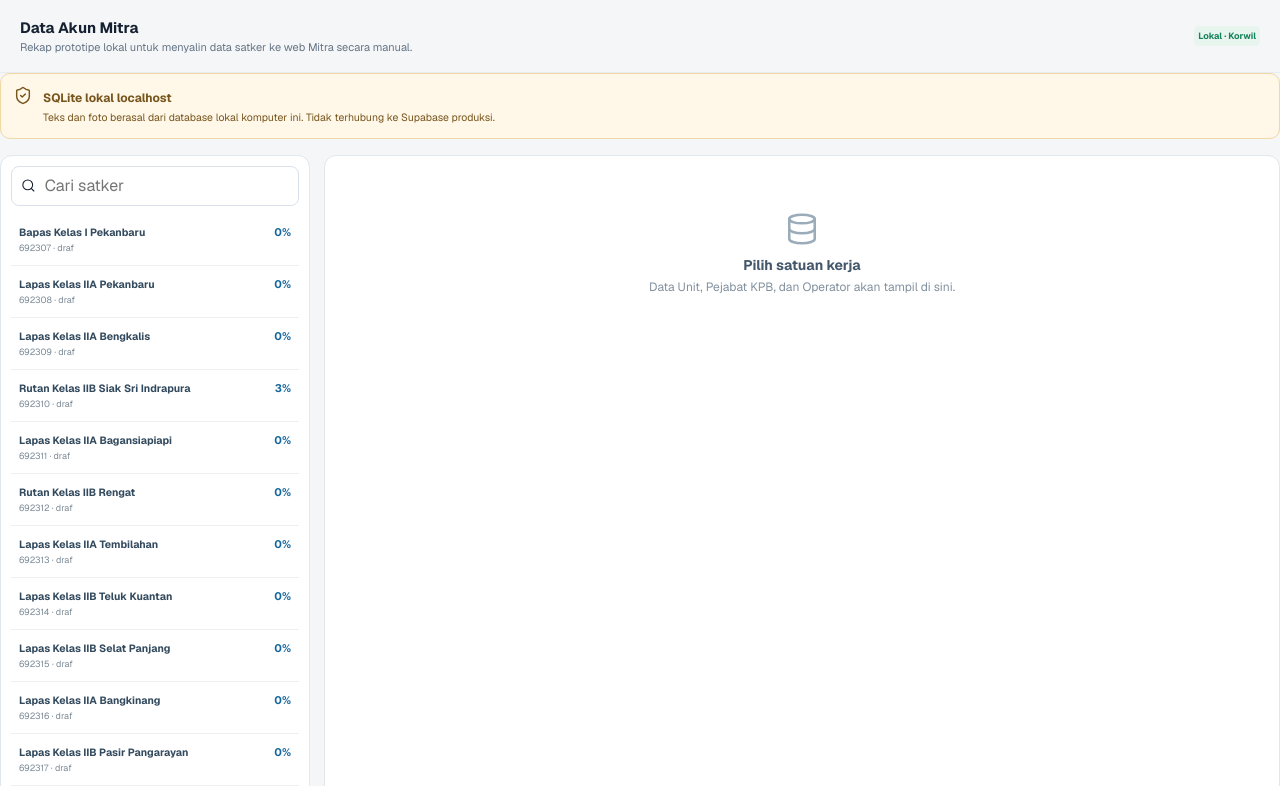
Scenario: Rekap Akun Mitra Korwil › menampilkan satker dan detail data terpusat
Check: the heading "Data Akun Mitra" is shown, box [20, 18, 138, 37]
Check: the text "SQLite lokal localhost" is shown, box [43, 90, 172, 106]
Step 1. Click the button "Rutan Kelas IIB Siak Sri Indrapura 692310 · draf 3%" → [155, 396], box [11, 370, 299, 422]
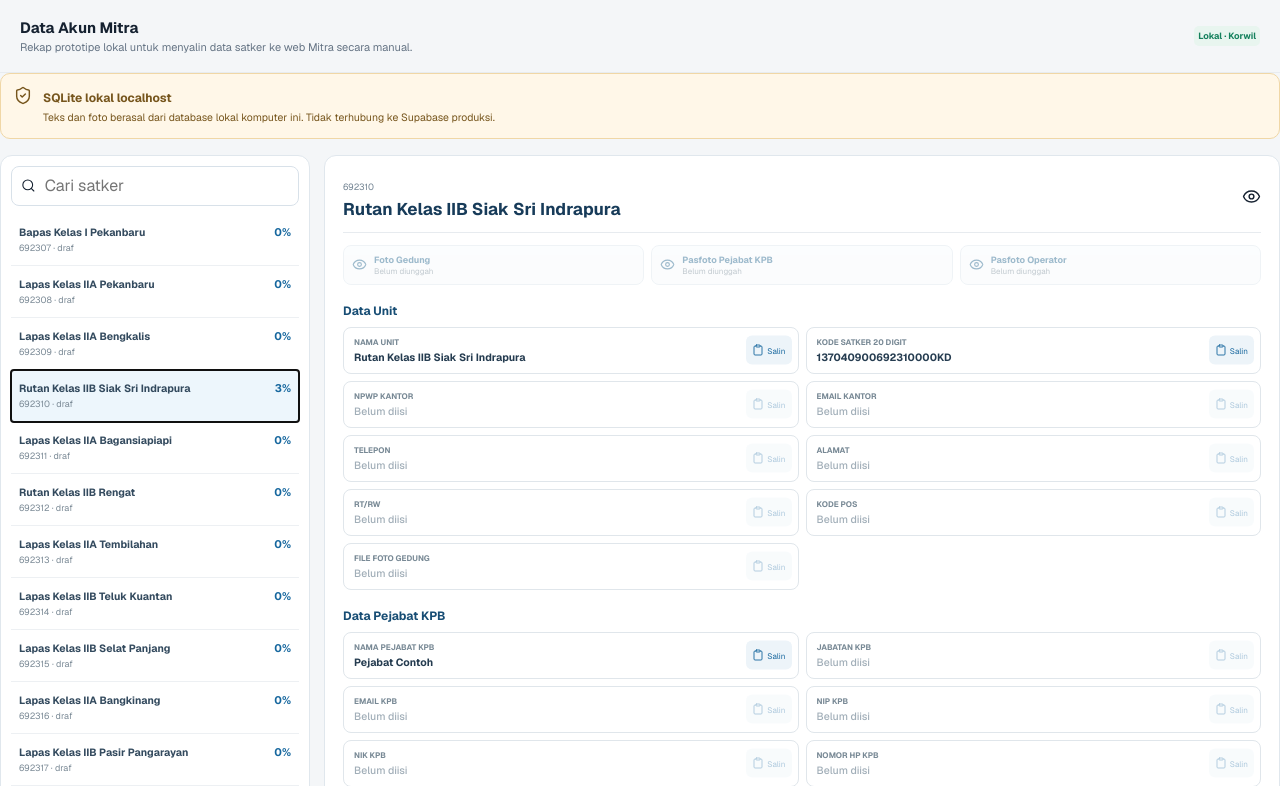
Check: the text "Pejabat Contoh" is shown, box [354, 655, 433, 669]
Check: the button with aria-label "Salin Nama Pejabat KPB" is shown, box [746, 641, 792, 670]
